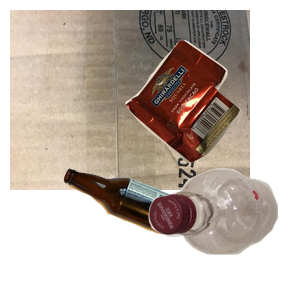cardboard: (10, 10, 250, 190)
glass: (60, 166, 241, 300)
plastic: (146, 166, 300, 300)
trash: (123, 37, 300, 192)
